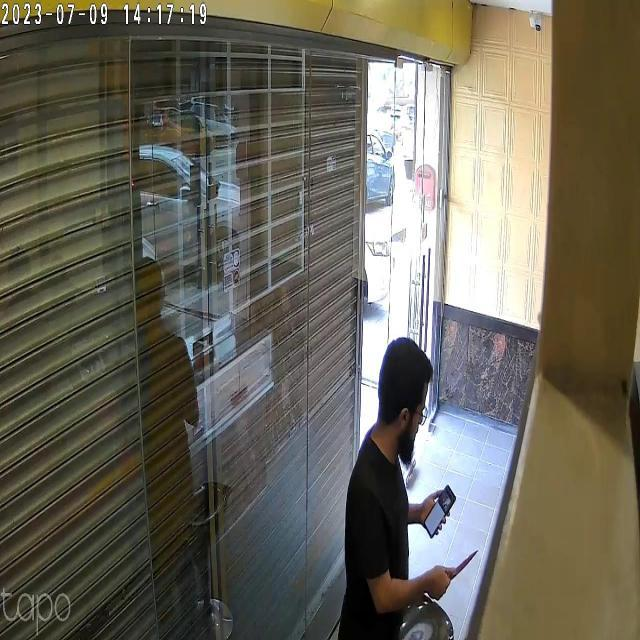Knife: (443, 544, 484, 588)
